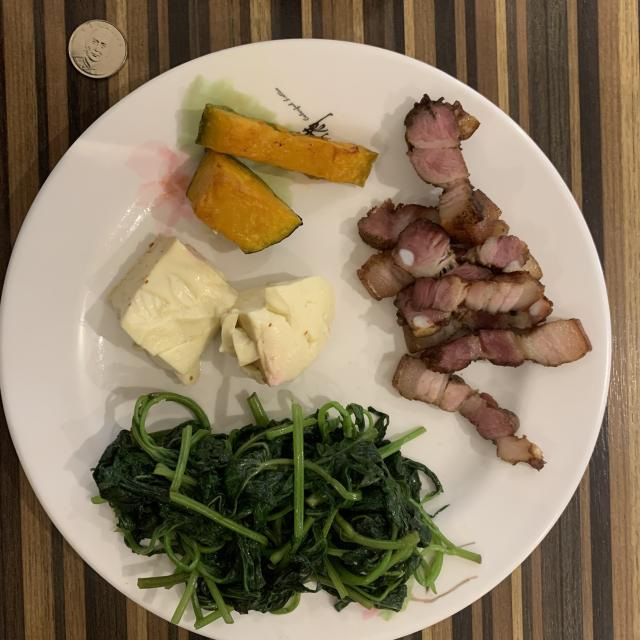coin: (69, 20, 128, 79)
grilled pork: (358, 95, 591, 469)
pumpkin: (186, 104, 378, 254)
sweet potato leaves: (92, 392, 480, 629)
